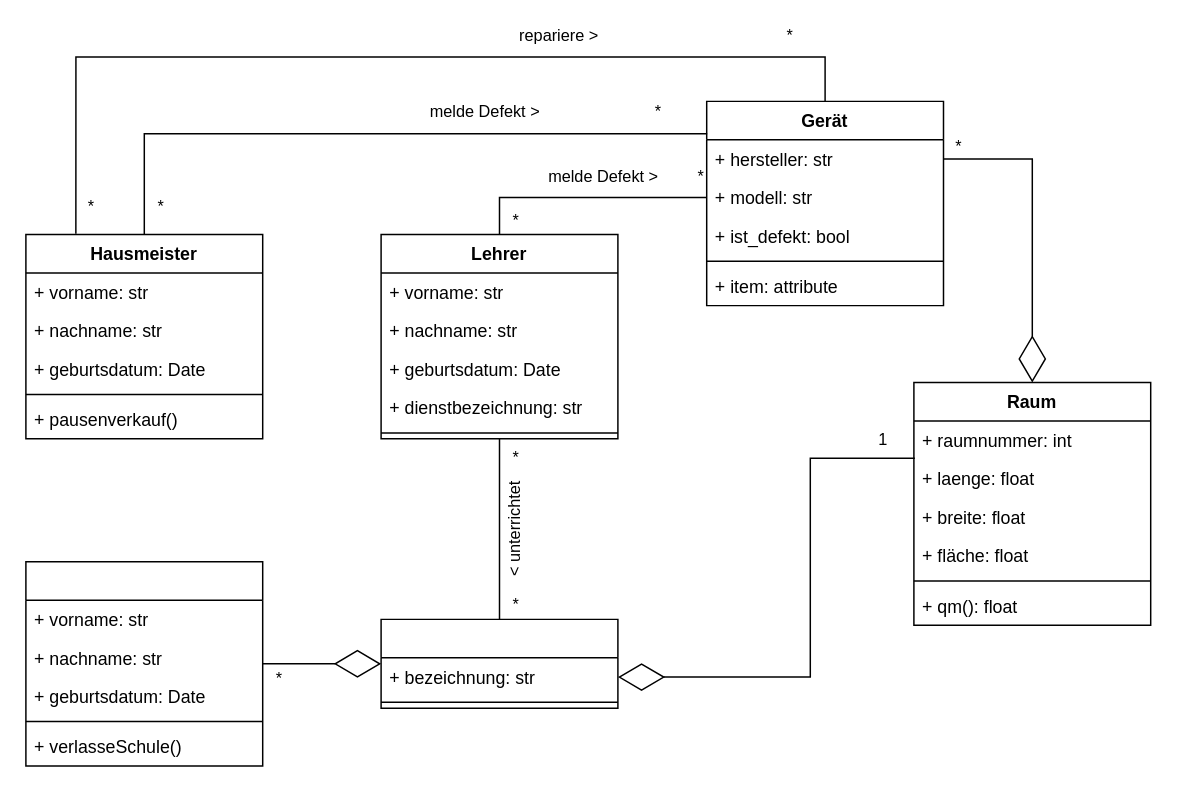
The diagram is 1177 pixels wide and 795 high, and some of its shapes have lost their labels. Each missing label, with the box of its shape:
Klasse: (380, 618, 618, 708)
Schüler: (24, 560, 263, 766)
